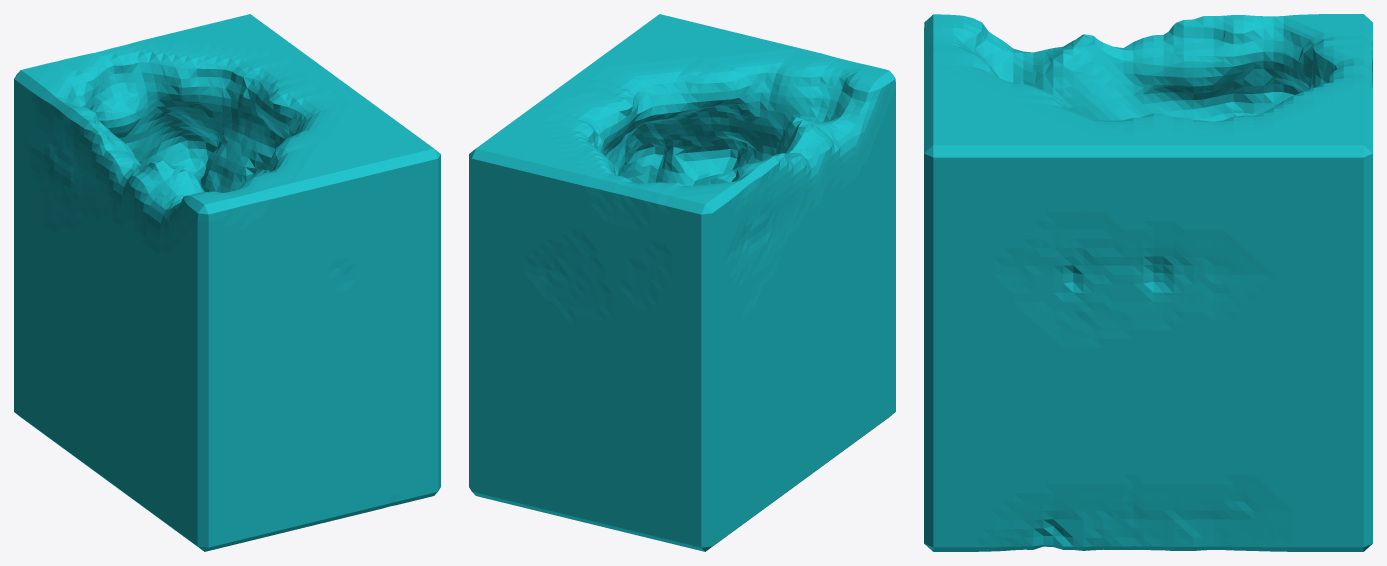
3 renders of one model, left to right at view 1: azimuth 30°, elevation 25°; view 2: azimuth 150°, elevation 25°; view 3: azimuth 270°, elevation 25°, orthographic. The views are drawn at different scales.
Parts seen in each view (by area): view 1: Liquid_Domain; view 2: Liquid_Domain; view 3: Liquid_Domain.
Boxes of the visible parts, x1,y1,x2,y2 form: Liquid_Domain: (14, 14, 440, 551); Liquid_Domain: (469, 14, 895, 551); Liquid_Domain: (924, 14, 1372, 551).
Bounding box in the file's own units: 79.09 × 108 × 108.
